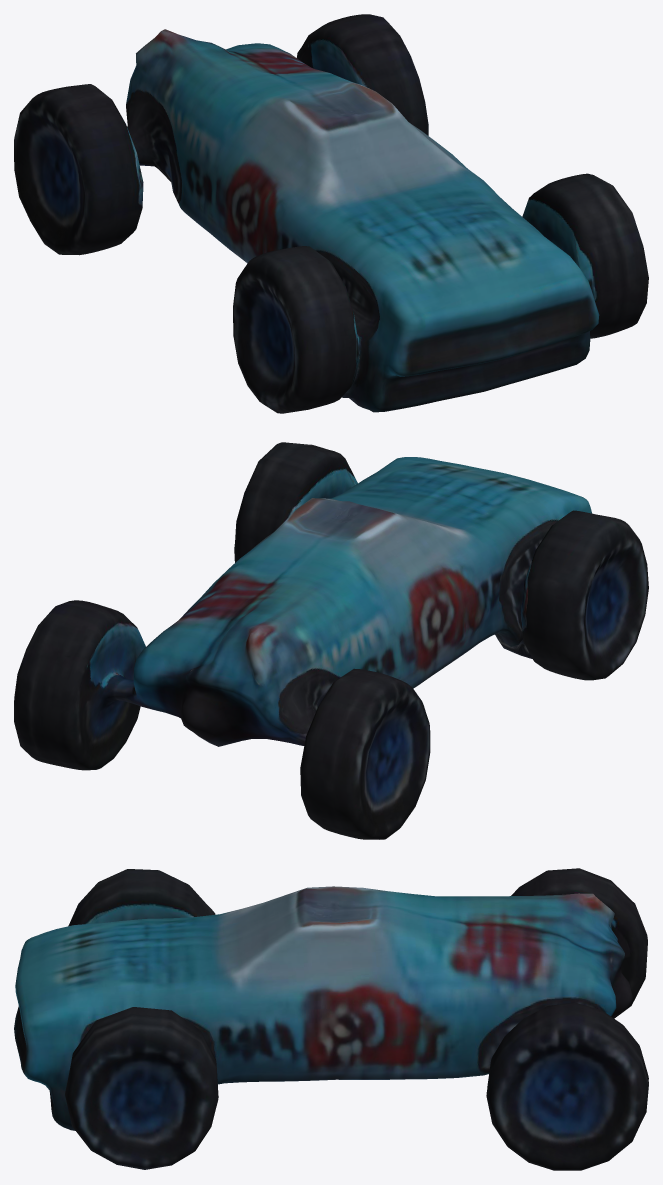
The model's file is car4.glb.
3 renders of one model, top to bottom at view 1: azimuth 30°, elevation 25°; view 2: azimuth 150°, elevation 25°; view 3: azimuth 270°, elevation 25°, orthographic. The views are drawn at different scales.
Visible parts, largest first — view 1: mesh; view 2: mesh; view 3: mesh.
Part boxes in pixels (x1,y1,x2,y2): mesh: (14,14,648,413); mesh: (14,442,648,839); mesh: (14,868,648,1170).
Size of the model in its own units: 0.6217 by 0.3257 by 0.9968.
Materials: 1 (1 with a texture image).
